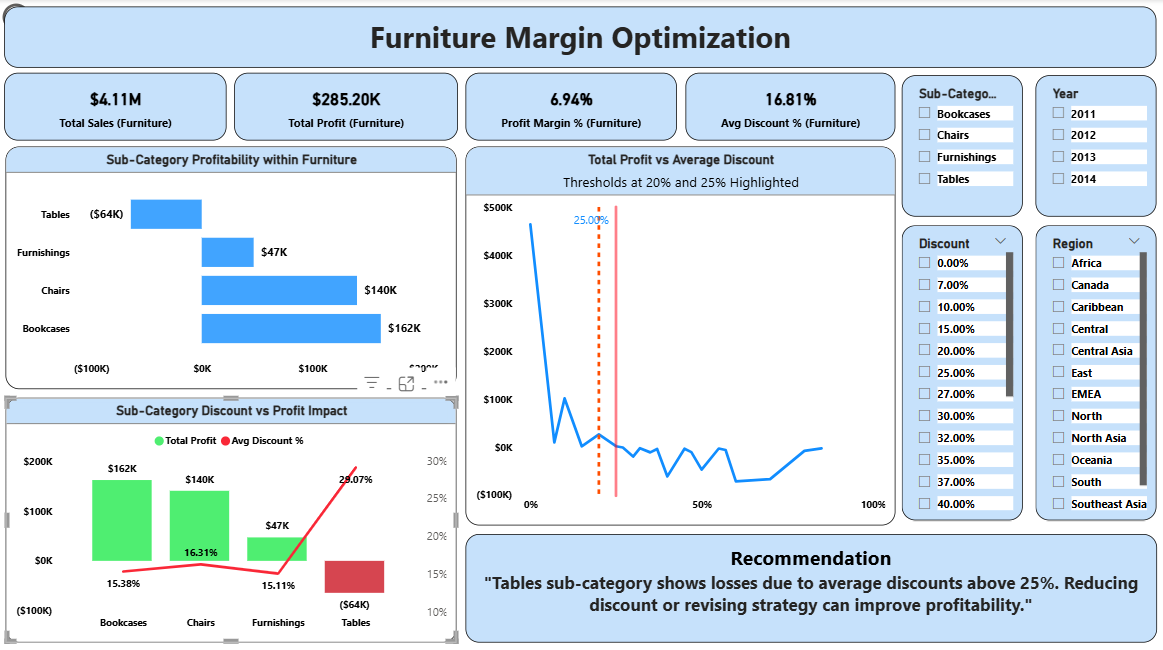

The page's visual inventory and layout, read from the dashboard file:
{"tool":"powerbi","page":{"name":"Furniture Drill-Down","canvas":[1280,720],"ordinal":1},"visuals":[{"type":"card","fields":{"Values":["Measure_Table.Total Sales"]},"box":[6.9,81,244.3,74.1],"z":0},{"type":"actionButton","box":[0,0,100,40],"z":1000},{"type":"card","fields":{"Values":["Measure_Table.Total Profit"]},"box":[259.3,81,245.6,74.1],"z":2000},{"type":"card","fields":{"Values":["Measure_Table.Profit Margin %"]},"box":[513.2,81,231.9,74.1],"z":3000},{"type":"barChart","title":"Sub-Category Profitability within Furniture","fields":{"Category":["Global_Superstore2.Sub-Category"],"Y":["Measure_Table.Total Profit"]},"box":[8.2,161.9,495.4,266.2],"z":4000},{"type":"textbox","box":[6.9,8.2,1265.2,67.2],"z":5000},{"type":"card","fields":{"Values":["Measure_Table.Avg Discount %"]},"box":[754.7,81,230.5,74.1],"z":6000},{"type":"lineChart","title":"Total Profit vs Average Discount","fields":{"Category":["Global_Superstore2.Discount"],"Y":["Measure_Table.Total Profit"]},"box":[513.2,161.9,472,415.8],"z":7000},{"type":"lineStackedColumnComboChart","title":"Sub-Category Discount vs Profit Impact","fields":{"Category":["Global_Superstore2.Sub-Category"],"Y":["Measure_Table.Total Profit"],"Y2":["Measure_Table.Avg Discount %"]},"box":[8.2,437.7,495.4,269],"z":8000},{"type":"slicer","fields":{"Values":["Global_Superstore2.Region"]},"box":[1138.9,248.4,133.1,323.8],"z":9000},{"type":"textbox","box":[513.2,587.3,758.8,119.4],"z":10000},{"type":"slicer","fields":{"Values":["DateTable.Year"]},"box":[1138.9,83.7,133.1,155.1],"z":11000},{"type":"slicer","fields":{"Values":["Global_Superstore2.Sub-Category"]},"box":[992.1,83.7,133.1,155.1],"z":12000},{"type":"slicer","fields":{"Values":["Global_Superstore2.Discount"]},"box":[992.1,248.4,133.1,323.8],"z":13000}]}

Visuals, with their boxes in screenshot pixels (x1, y1, x2, y2), scaled from the page's 1280x720 canvas onto the 1163x650 screenshot:
card - Measure_Table.Total Sales: select_region(6, 73, 228, 140)
actionButton: select_region(0, 0, 91, 36)
card - Measure_Table.Total Profit: select_region(236, 73, 459, 140)
card - Measure_Table.Profit Margin %: select_region(466, 73, 677, 140)
"Sub-Category Profitability within Furniture" barChart: select_region(7, 146, 458, 386)
textbox: select_region(6, 7, 1156, 68)
card - Measure_Table.Avg Discount %: select_region(686, 73, 895, 140)
"Total Profit vs Average Discount" lineChart: select_region(466, 146, 895, 522)
"Sub-Category Discount vs Profit Impact" lineStackedColumnComboChart: select_region(7, 395, 458, 638)
slicer - Global_Superstore2.Region: select_region(1035, 224, 1156, 517)
textbox: select_region(466, 530, 1156, 638)
slicer - DateTable.Year: select_region(1035, 76, 1156, 216)
slicer - Global_Superstore2.Sub-Category: select_region(901, 76, 1022, 216)
slicer - Global_Superstore2.Discount: select_region(901, 224, 1022, 517)
